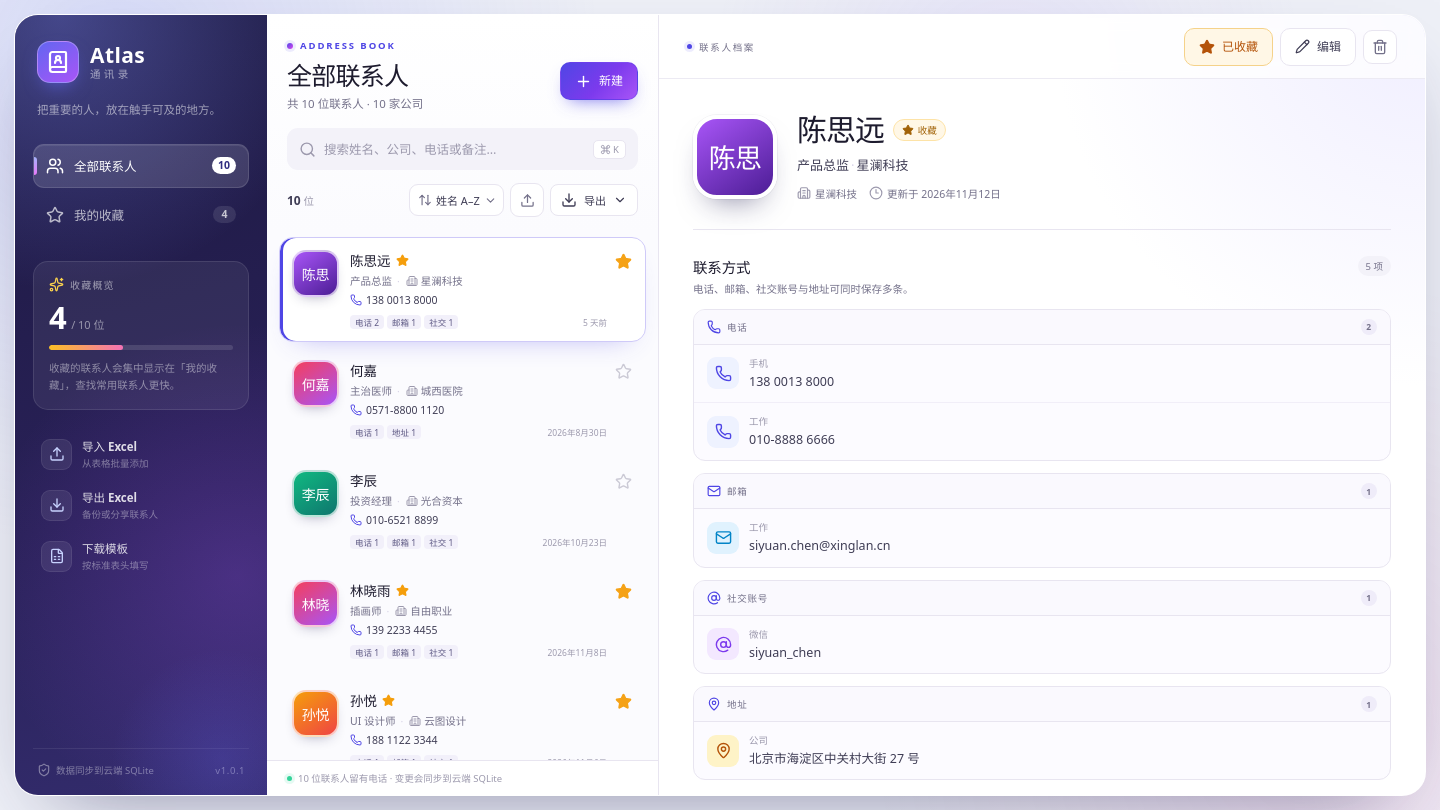
Test: Atlas address book › searches across name, company and contact methods
The width and height of the screenshot is (1440, 810).
Type "星澜" into the field named "搜索联系人" at point(455, 149), box [324,140,585,158]
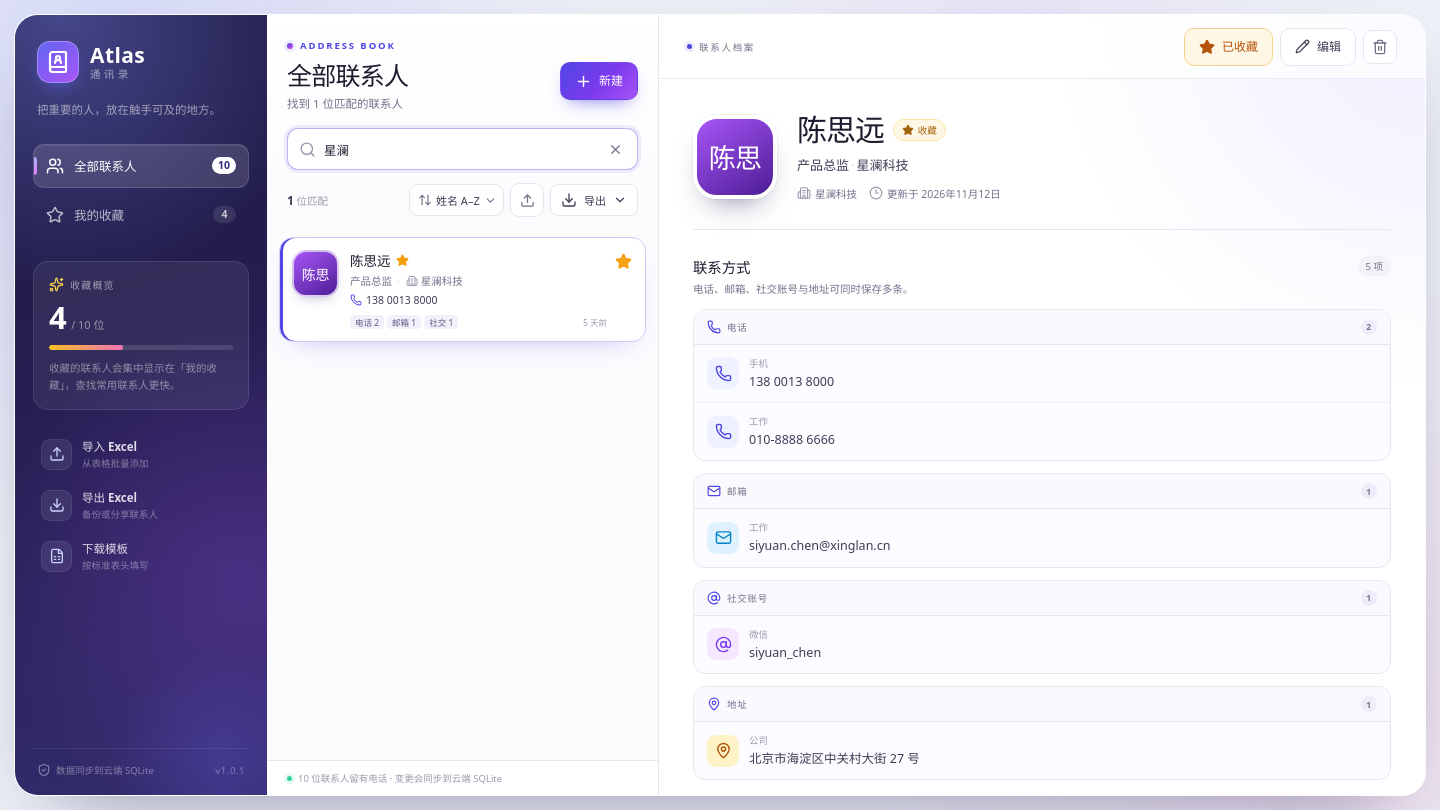
Now the number of buttons "陈思 陈思远 产品总监 · 星澜科技 138 0013 8000 电话 2 邮箱 1 社交 1 5 天前" is 1, box [279,237,646,342]
Clear the field named "搜索联系人" at point(459, 149), box [324,140,594,158]
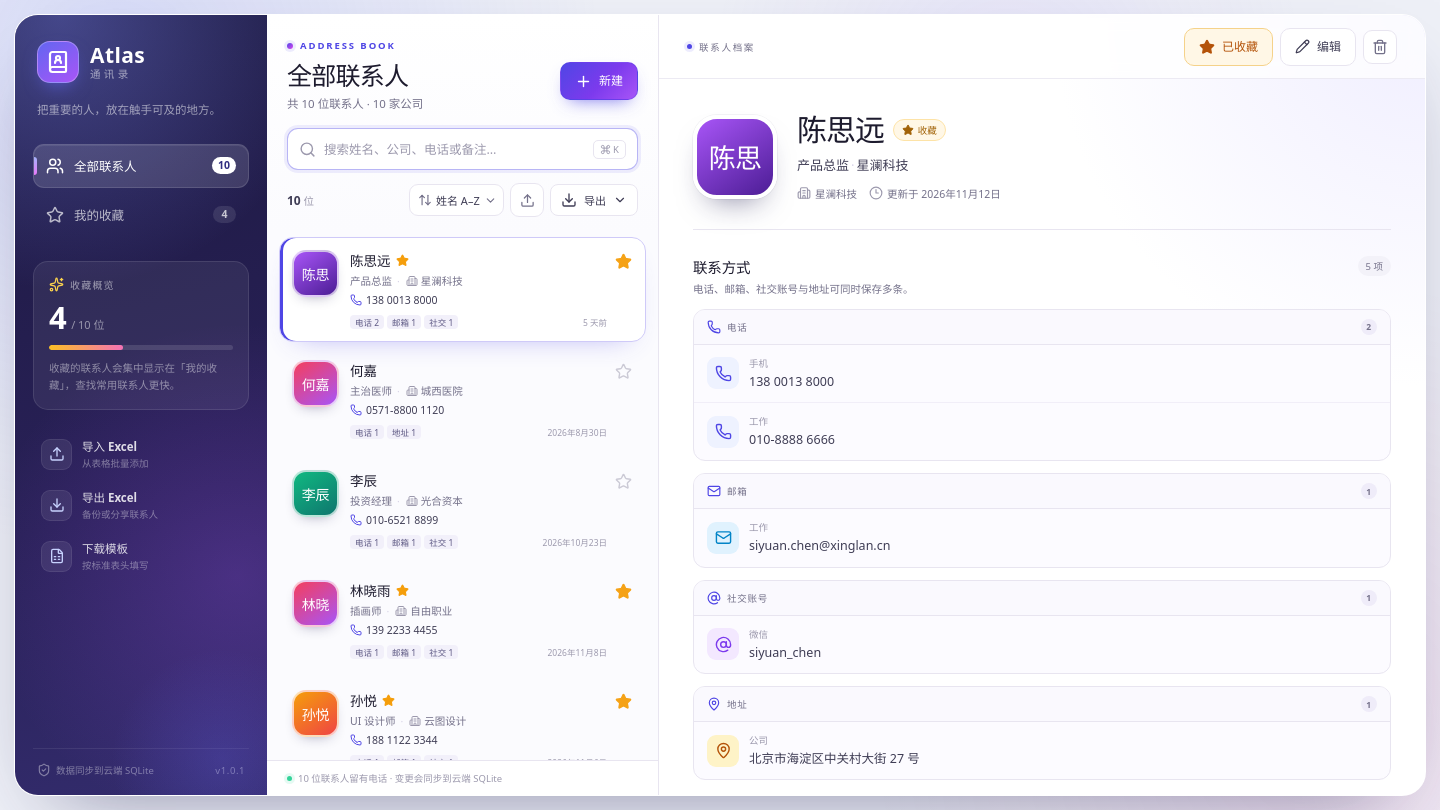
Type "yiming-dev" into the field named "搜索联系人" at point(455, 149), box [324,140,585,158]
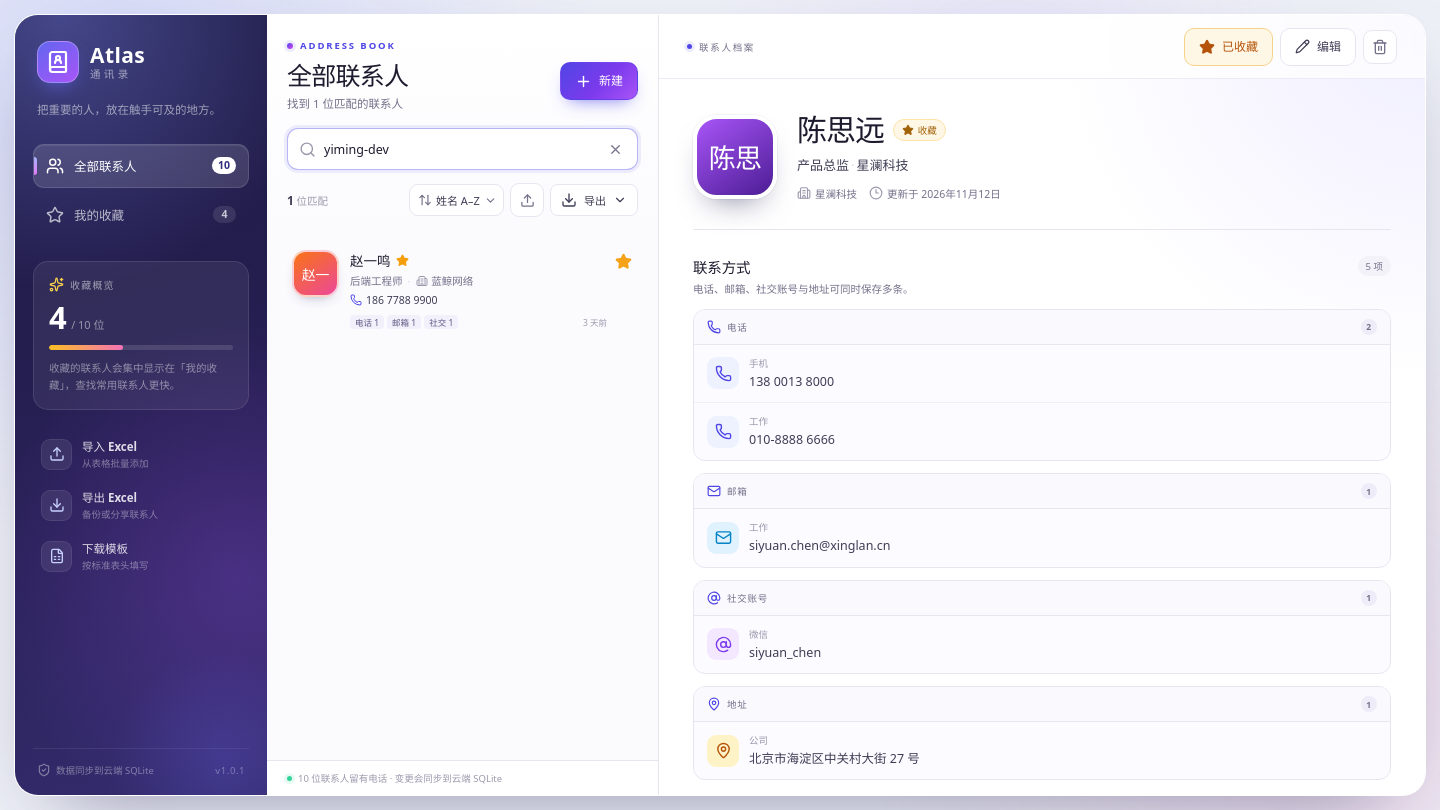
Now the number of buttons "赵一 赵一鸣 后端工程师 · 蓝鲸网络 186 7788 9900 电话 1 邮箱 1 社交 1 3 天前" is 1, box [279,237,646,342]
